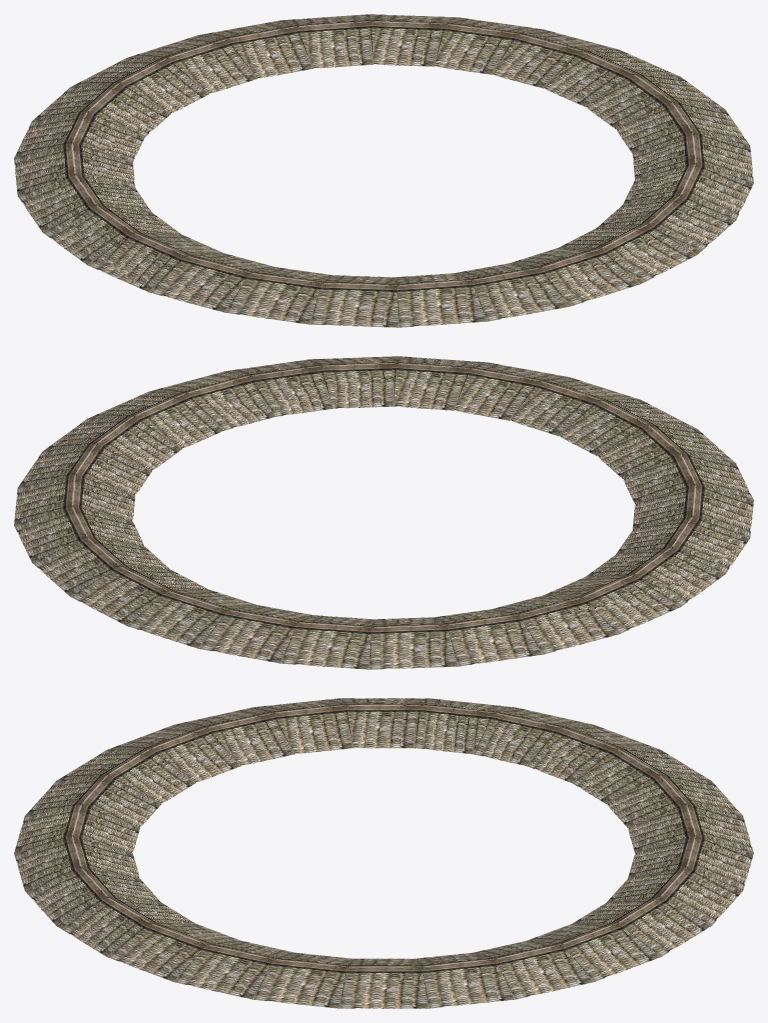
3 renders of one model, top to bottom at view 1: azimuth 30°, elevation 25°; view 2: azimuth 150°, elevation 25°; view 3: azimuth 270°, elevation 25°, orthographic.
Parts seen in each view (by area): view 1: Torus08; view 2: Torus08; view 3: Torus08.
Part boxes in pixels (box(x1,y1,x2,y2)): Torus08: box(14, 14, 753, 327); Torus08: box(14, 356, 753, 669); Torus08: box(14, 698, 753, 1008).
Size of the model in its own units: 1858 by 49.22 by 1872.
